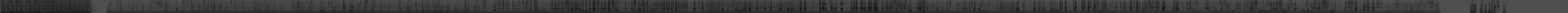Moan: (1015, 0, 1019, 13), (779, 0, 782, 13), (787, 0, 790, 13), (1162, 0, 1165, 13), (693, 0, 695, 13)
